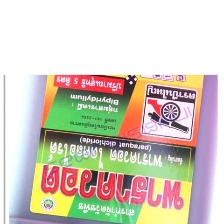insecticide: (26, 28, 206, 224)
